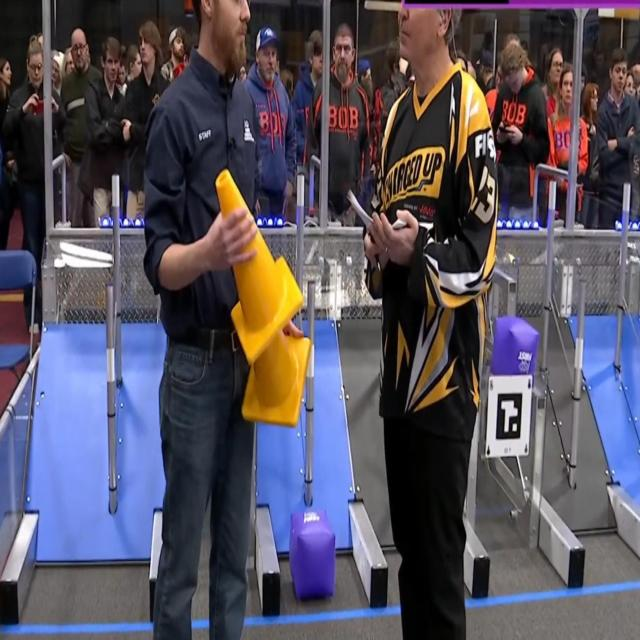frc_cone: (218, 169, 306, 369), (239, 326, 311, 428)
frc_cube: (289, 510, 336, 600), (491, 314, 537, 382)
